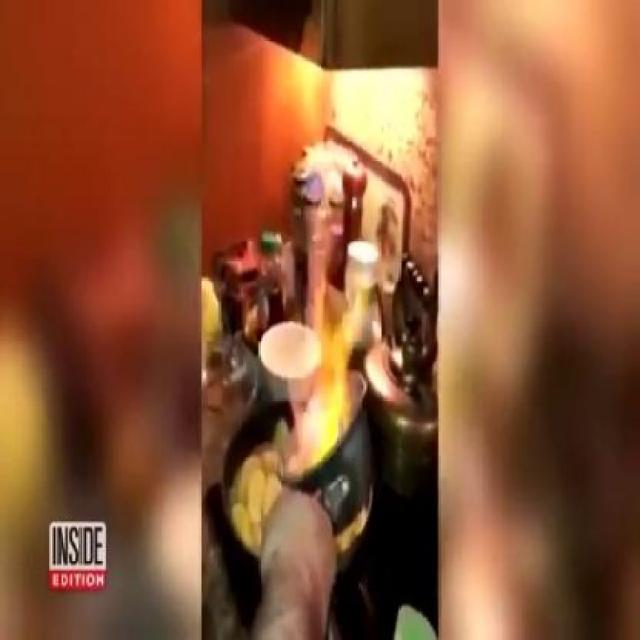fire: (283, 300, 359, 440)
